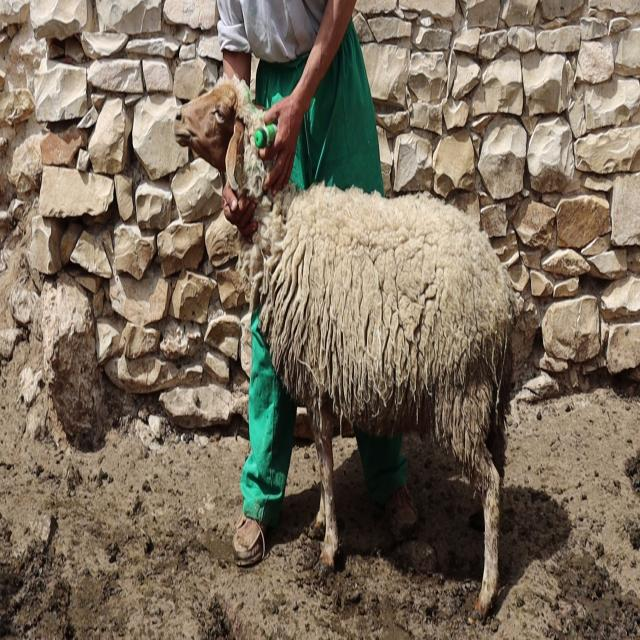Score_3: (174, 81, 523, 615)
